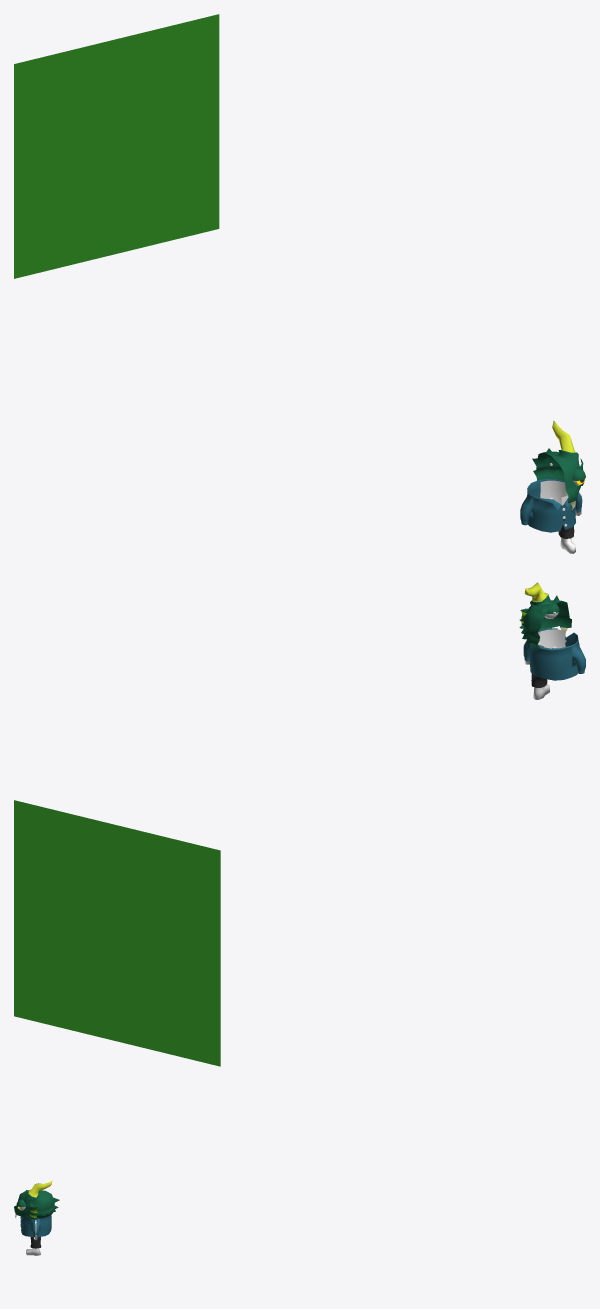
3 views of the same model, one above another, from view 1: azimuth 30°, elevation 25°; view 2: azimuth 150°, elevation 25°; view 3: azimuth 270°, elevation 25° (orthographic). The views are drawn at different scales.
Visible parts, largest first — view 1: bg, shirt, head, body; view 2: bg, shirt, head, body; view 3: head, shirt.
Part boxes in pixels (<box>): bg: <box>14,14,219,278</box>; shirt: <box>520,479,582,532</box>; head: <box>532,420,584,510</box>; body: <box>540,480,581,553</box>; bg: <box>14,800,220,1066</box>; shirt: <box>523,628,585,680</box>; head: <box>519,582,571,649</box>; body: <box>523,629,565,699</box>; head: <box>14,1180,59,1219</box>; shirt: <box>20,1215,51,1236</box>.
Size of the model in its own units: 6 by 6 by 22.87.
